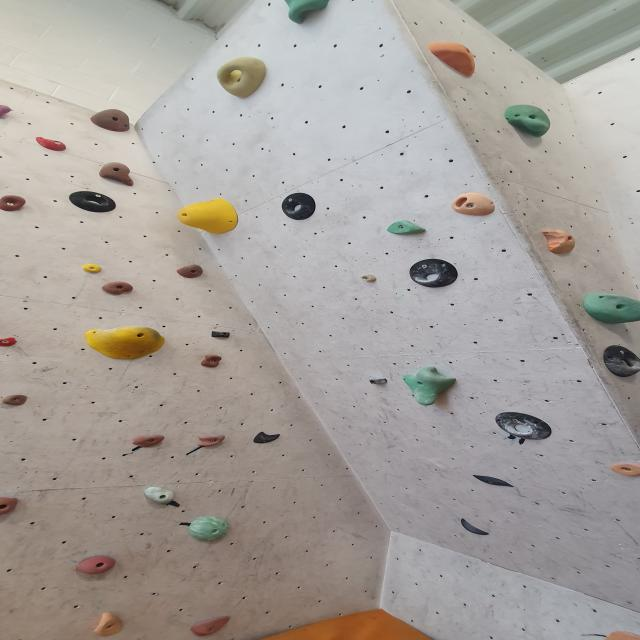Crimp: (189, 615, 235, 640), (33, 136, 68, 152), (610, 465, 640, 481), (78, 264, 105, 277), (356, 274, 381, 286), (0, 338, 20, 350)
Jug: (213, 56, 271, 100), (400, 367, 458, 408), (502, 103, 554, 138), (278, 0, 336, 26), (88, 108, 132, 132), (76, 554, 121, 576), (97, 163, 136, 187), (130, 433, 168, 448), (100, 280, 135, 296), (172, 265, 205, 281), (197, 432, 230, 448), (0, 196, 28, 213), (0, 495, 22, 516), (198, 353, 226, 369), (0, 392, 32, 406)
Pinch: (426, 40, 480, 78), (538, 229, 580, 257), (90, 612, 126, 640), (141, 486, 177, 508), (386, 222, 430, 238), (210, 330, 236, 339)
Pocket: (406, 260, 461, 290), (494, 413, 554, 440), (447, 191, 497, 217), (601, 345, 640, 378), (276, 191, 320, 220)
Sloper: (82, 328, 169, 362), (176, 198, 242, 236), (581, 294, 640, 326), (187, 517, 233, 544)
